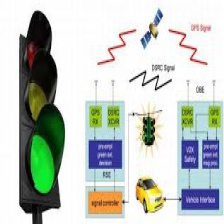semaforo: (16, 11, 69, 213)
